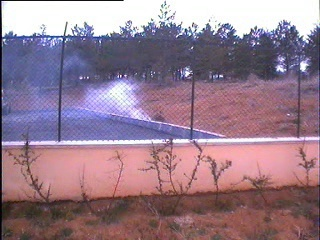smoke: (78, 75, 153, 122)
